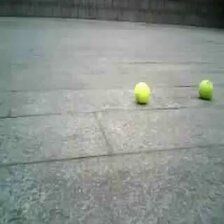tennis: (135, 83, 151, 102), (198, 79, 213, 97)
